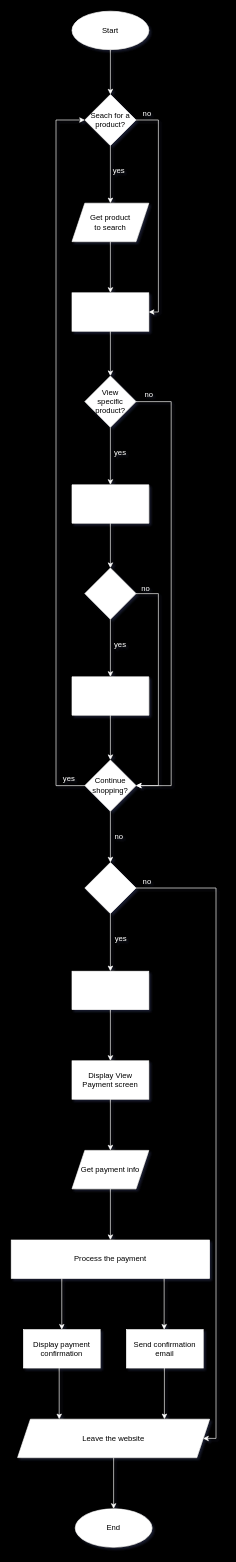
The diagram is 236 pixels wide and 1562 high, and some of its shapes have lost their labels. The centre of each missing label's shape, as x and y in pixels:
"Add item to cart?" belongs at point 110,593.
"Checkout?" belongs at point 110,888.
"Display added to cart confirmation" belongs at point 110,695.
"Display product list" belongs at point 110,311.
"Display product webpage" belongs at point 110,503.
"Display View Cart screen" belongs at point 110,990.
